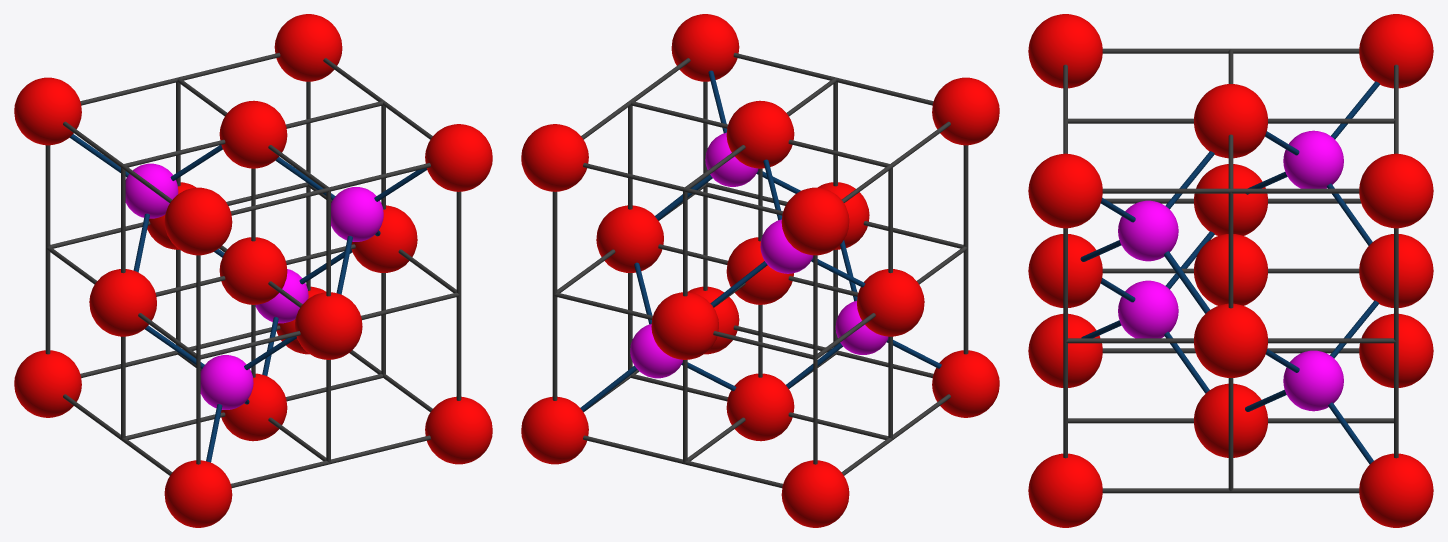
File: ZnS.glb
3 views of the same model, side by side, from view 1: azimuth 30°, elevation 25°; view 2: azimuth 150°, elevation 25°; view 3: azimuth 270°, elevation 25° (orthographic). The views are drawn at different scales.
Parts seen in each view (by area): view 1: Sphere.004, Sphere.003, Sphere.008, Sphere.007, Sphere.017, Sphere.005, Sphere, Sphere.002, Sphere.018, Sphere.009, Sphere.015, Sphere.019 (+29 smaller); view 2: Sphere.005, Sphere.002, Sphere.009, Sphere.006, Sphere.016, Sphere.004, Sphere, Sphere.003, Sphere.019, Sphere.018, Sphere.008, Sphere.001 (+30 smaller); view 3: Sphere.008, Sphere.009, Sphere.006, Sphere.007, Sphere.001, Sphere.004, Sphere.005, Sphere.018, Sphere.016, Sphere.015, Sphere.017, Sphere.019 (+21 smaller).
Part boxes in pixels (x1,y1,x2,y2): Sphere.004: (164, 187, 232, 255); Sphere.003: (164, 460, 232, 527); Sphere.008: (425, 124, 492, 191); Sphere.007: (425, 396, 492, 464); Sphere.017: (295, 292, 362, 359); Sphere.005: (14, 77, 81, 145); Sphere: (89, 269, 156, 336); Sphere.002: (14, 350, 81, 417); Sphere.018: (219, 100, 287, 168); Sphere.009: (274, 14, 342, 81); Sphere.015: (219, 237, 287, 304); Sphere.019: (221, 373, 287, 441); Sphere.005: (781, 187, 849, 255); Sphere.002: (781, 460, 849, 527); Sphere.009: (521, 124, 588, 191); Sphere.006: (521, 396, 588, 464); Sphere.016: (651, 292, 718, 359); Sphere.004: (932, 77, 999, 145); Sphere: (857, 269, 924, 336); Sphere.003: (932, 350, 999, 417); Sphere.019: (726, 373, 794, 441); Sphere.018: (726, 100, 794, 168); Sphere.008: (671, 14, 739, 81); Sphere.001: (596, 205, 663, 272); Sphere.008: (1028, 153, 1102, 228); Sphere.009: (1359, 153, 1433, 228); Sphere.006: (1359, 453, 1433, 527); Sphere.007: (1028, 453, 1102, 527); Sphere.001: (1194, 303, 1267, 377); Sphere.004: (1028, 14, 1102, 88); Sphere.005: (1359, 14, 1433, 88); Sphere.018: (1194, 84, 1267, 158); Sphere.016: (1359, 234, 1433, 307); Sphere.015: (1194, 234, 1267, 305); Sphere.017: (1028, 234, 1102, 307); Sphere.019: (1194, 383, 1267, 457).
Bounding box in the file's own units: 4.9 × 4.9 × 4.9.
